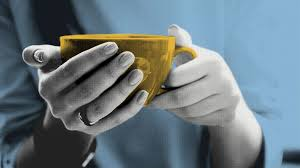cup: (58, 33, 196, 114)
